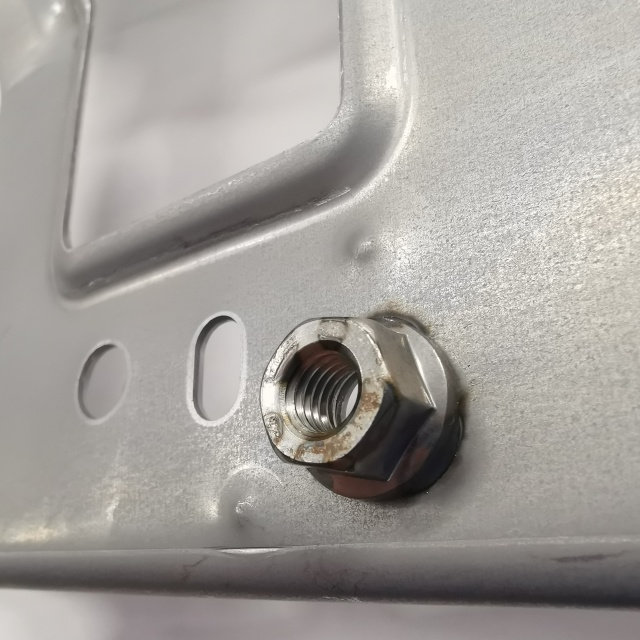dog: (256, 306, 470, 504)
